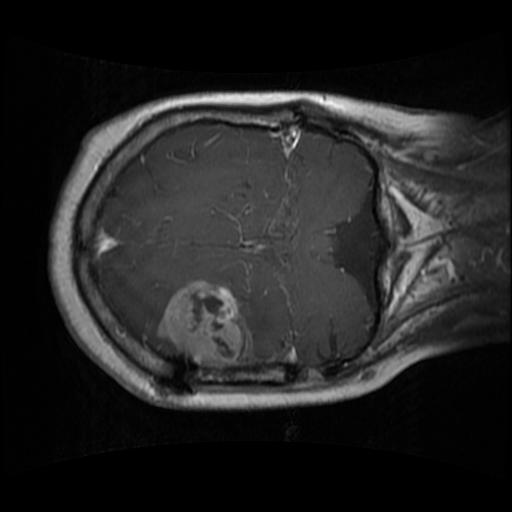glioma: (153, 279, 256, 368)
